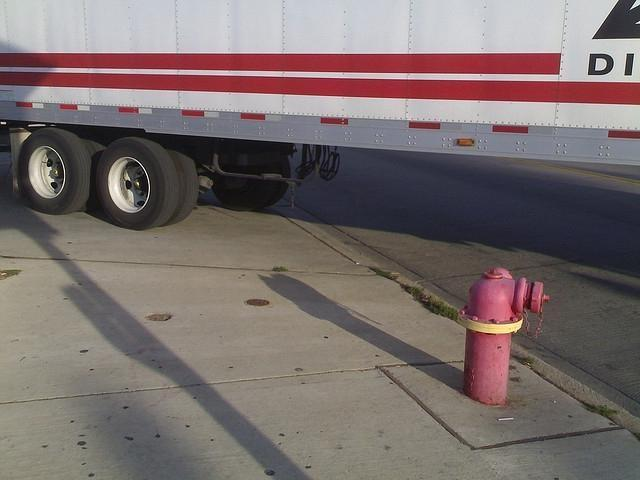truck: (0, 4, 640, 225)
